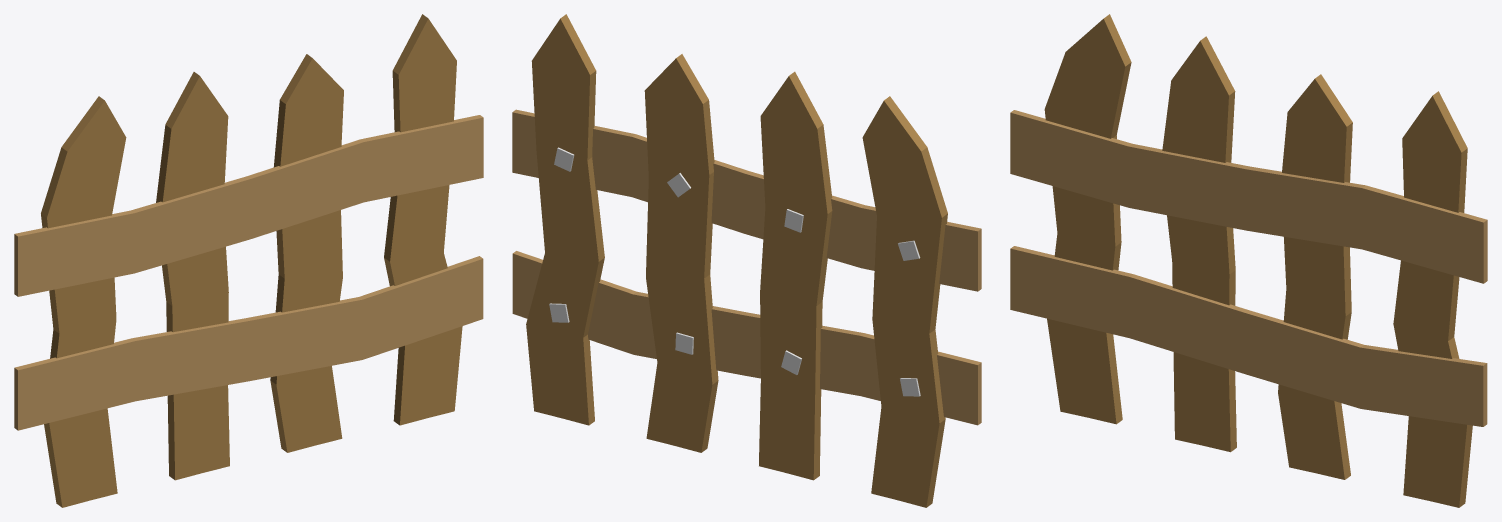
The model's file is Fence1.glb.
The picture shows the model from 3 angles, left to right: view 1: azimuth 30°, elevation 25°; view 2: azimuth 150°, elevation 25°; view 3: azimuth 330°, elevation 25°; orthographic projection.
Parts seen in each view (by area): view 1: Cube, Cube.002; view 2: Cube, Cube.002, Cube.004; view 3: Cube, Cube.002.
Boxes of the visible parts, x1,y1,x2,y2 form: Cube: (41, 14, 462, 507); Cube.002: (14, 115, 483, 430); Cube: (526, 14, 947, 507); Cube.002: (512, 109, 981, 425); Cube.004: (549, 147, 920, 396); Cube: (1044, 14, 1472, 507); Cube.002: (1010, 110, 1487, 426).
Size of the model in its own units: 3.64 by 2.99 by 0.1301.
